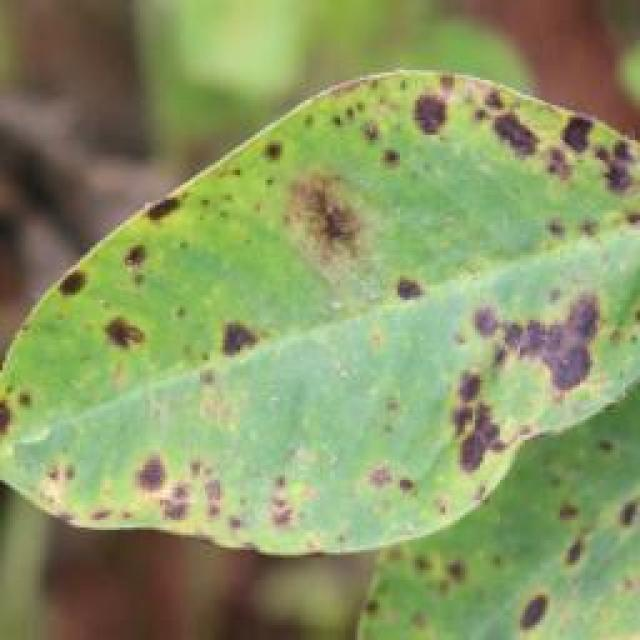Yellowish: (3, 54, 640, 597)
